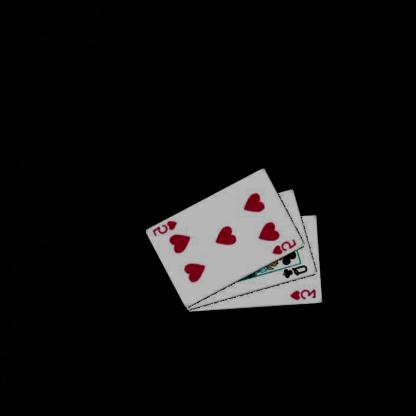3H: (289, 286, 319, 301)
5H: (272, 236, 300, 256), (152, 219, 180, 238)
QC: (282, 262, 310, 280)
